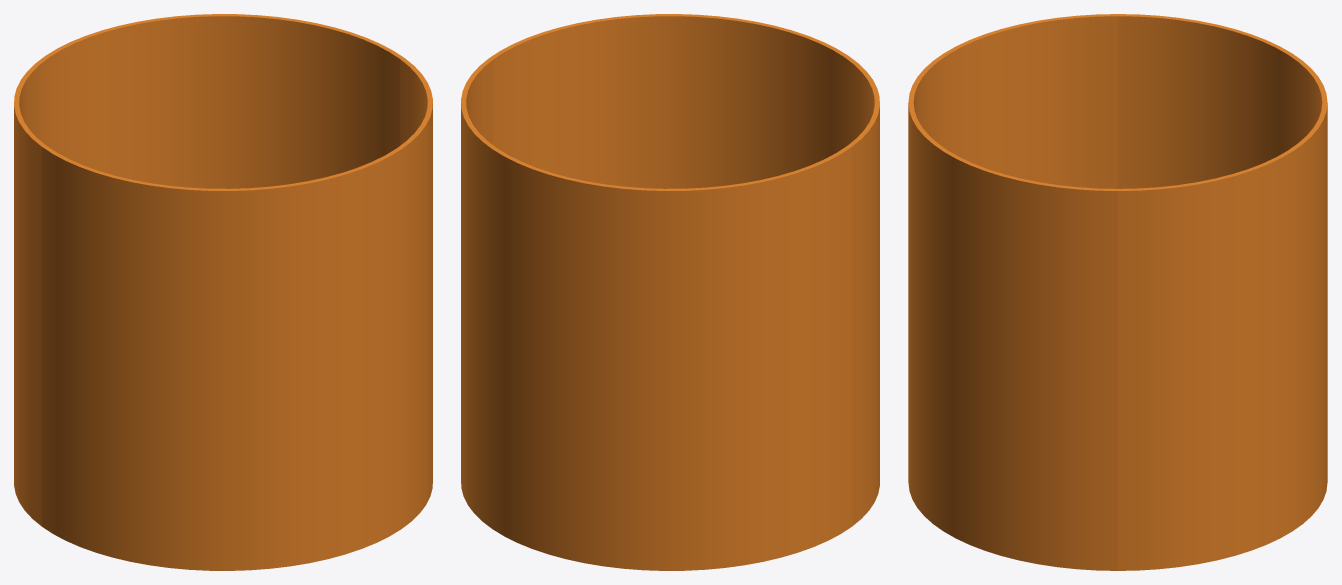
File: causticization_tank_pressure.glb
The picture shows the model from 3 angles, left to right: view 1: azimuth 30°, elevation 25°; view 2: azimuth 150°, elevation 25°; view 3: azimuth 270°, elevation 25°; orthographic projection.
Parts seen in each view (by area): view 1: pressure__front, pressure__back; view 2: pressure__back, pressure__front; view 3: pressure__back, pressure__front.
Part boxes in pixels (bbox=[...]): pressure__front: bbox=[42, 58, 432, 570]; pressure__back: bbox=[14, 14, 404, 526]; pressure__back: bbox=[461, 58, 851, 570]; pressure__front: bbox=[489, 14, 879, 526]; pressure__back: bbox=[1118, 14, 1327, 570]; pressure__front: bbox=[908, 14, 1117, 570].
Size of the model in its own units: 1.6 by 1.6 by 1.6.
